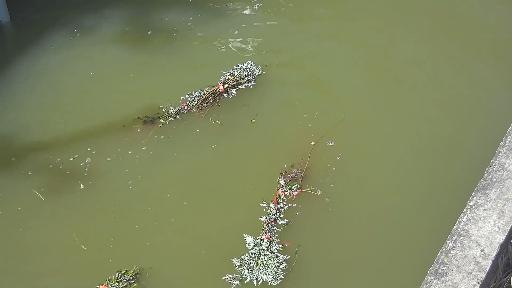twig: (216, 112, 354, 288), (117, 58, 272, 142), (101, 262, 158, 288)
